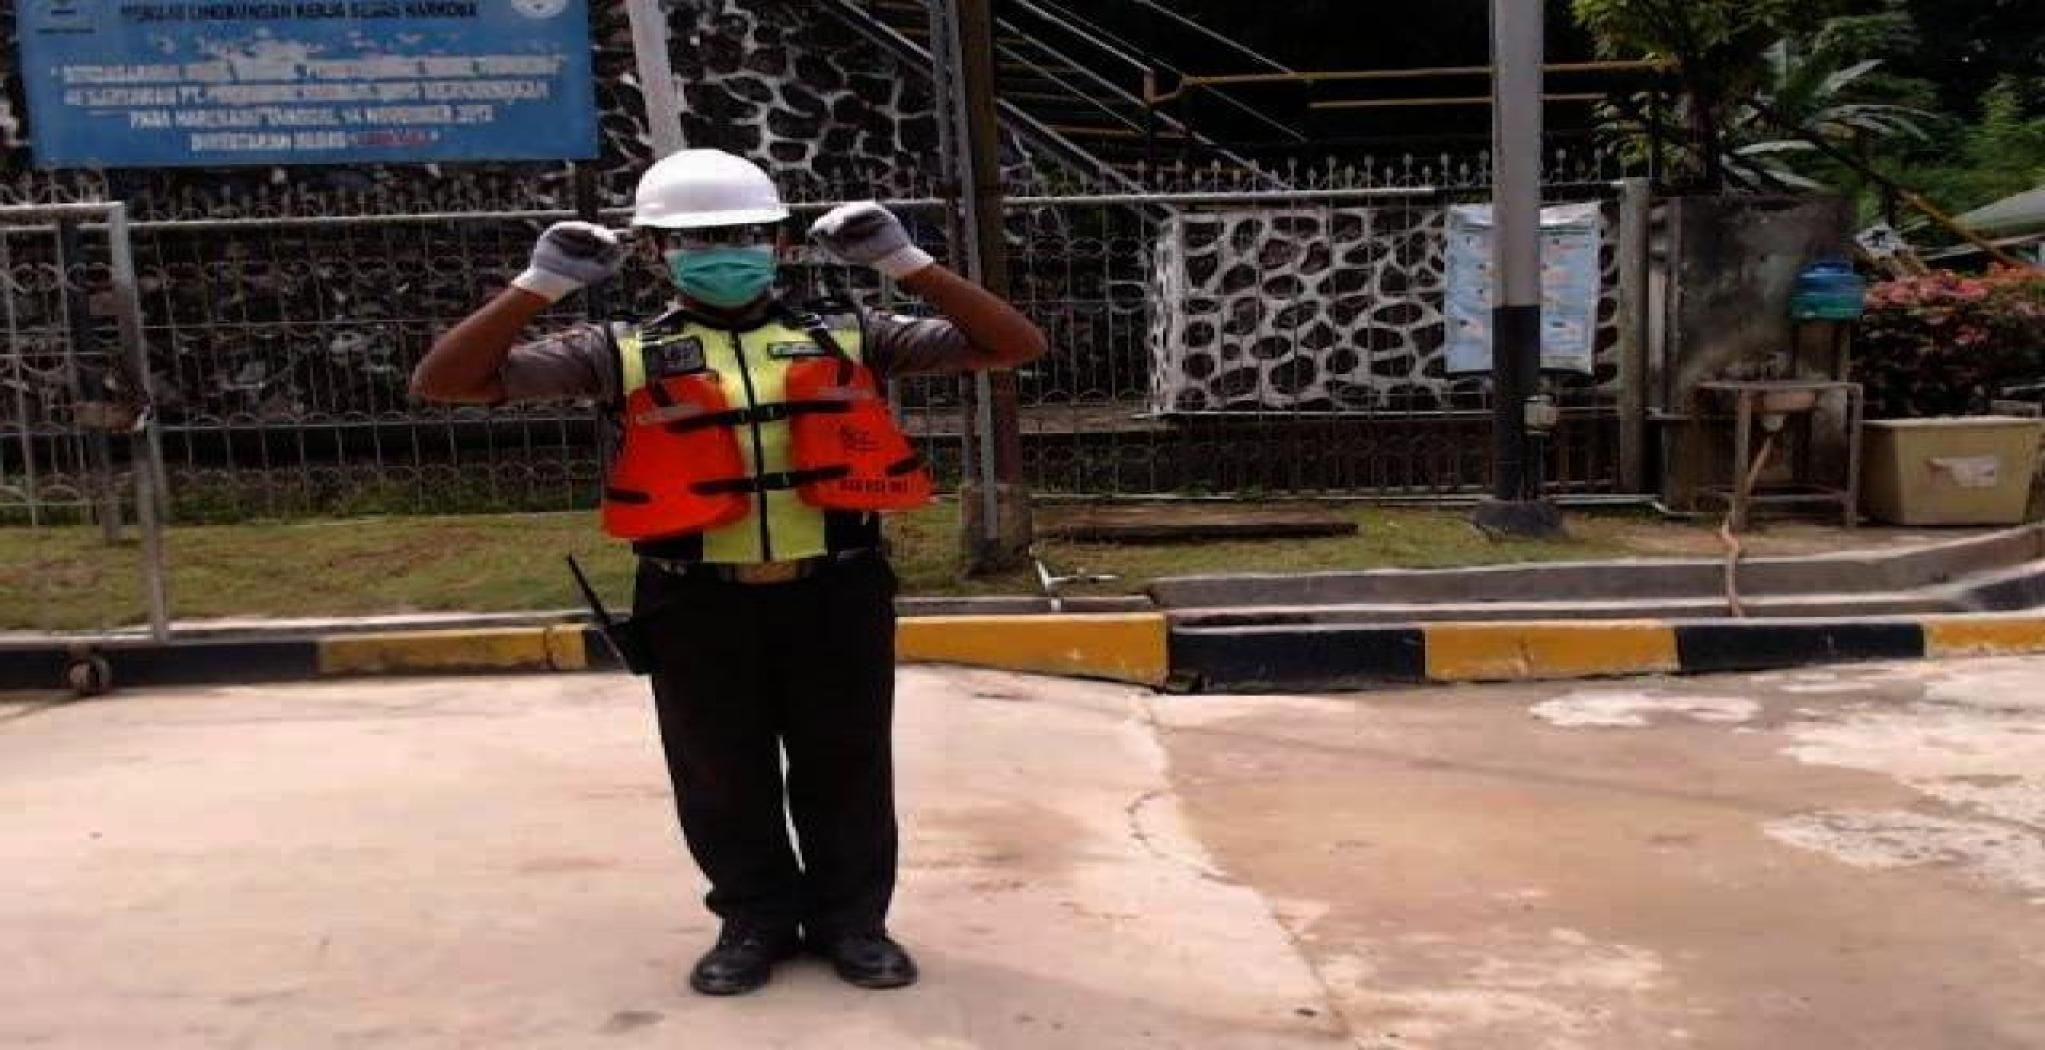gloved: (789, 205, 943, 295), (516, 222, 633, 297)
